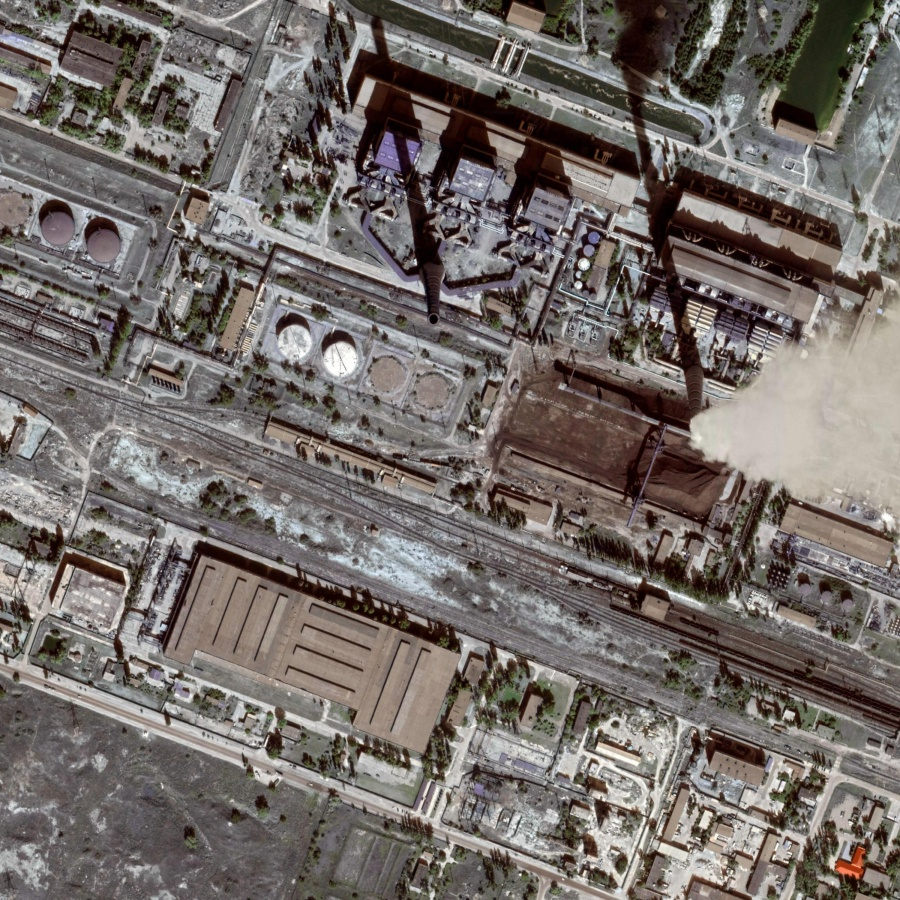PowerPlant: (269, 7, 896, 516)
